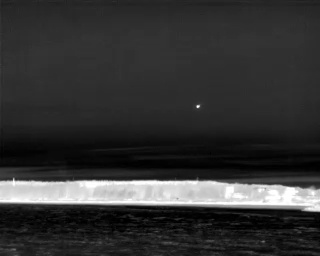HELICOPTER: (193, 101, 204, 113)
